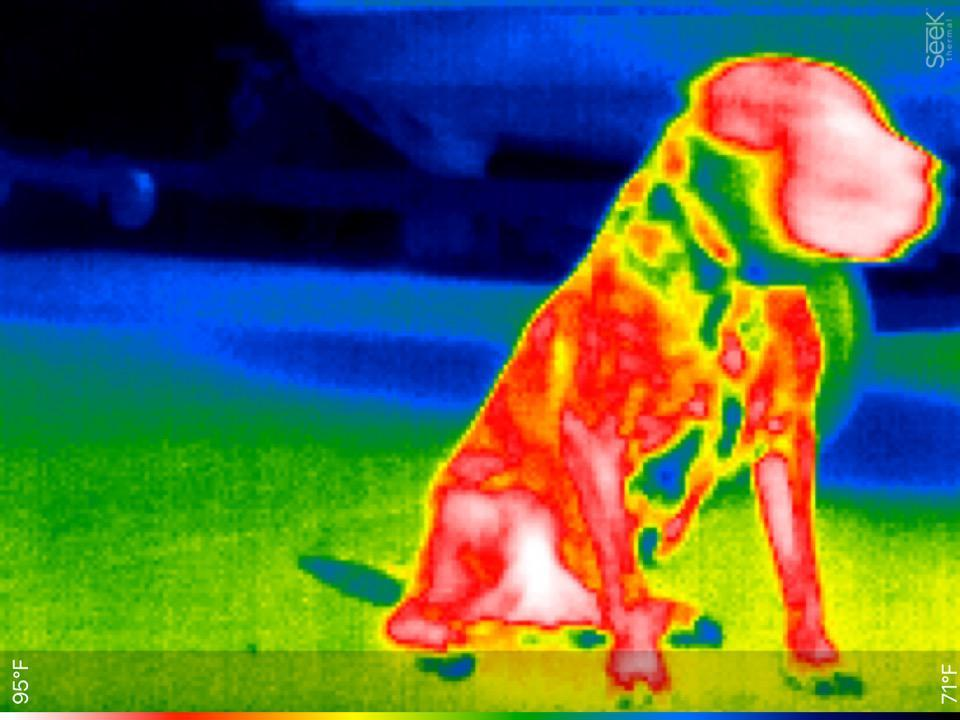dog: (378, 41, 943, 693)
